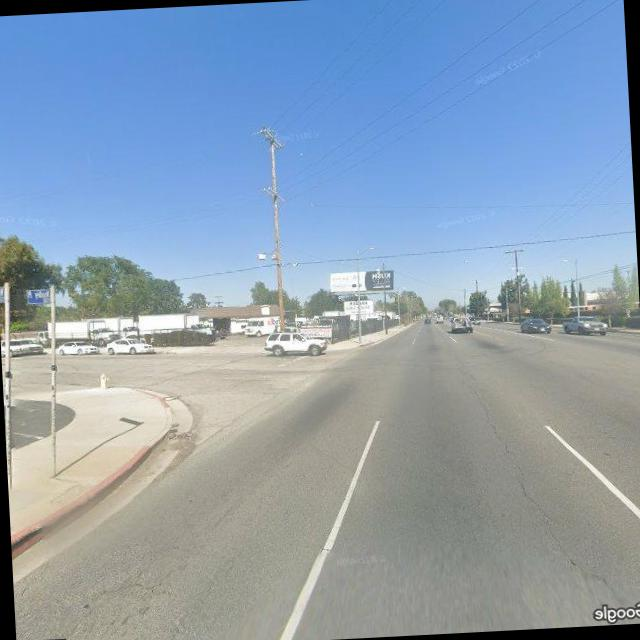pothole: (481, 394, 598, 587)
